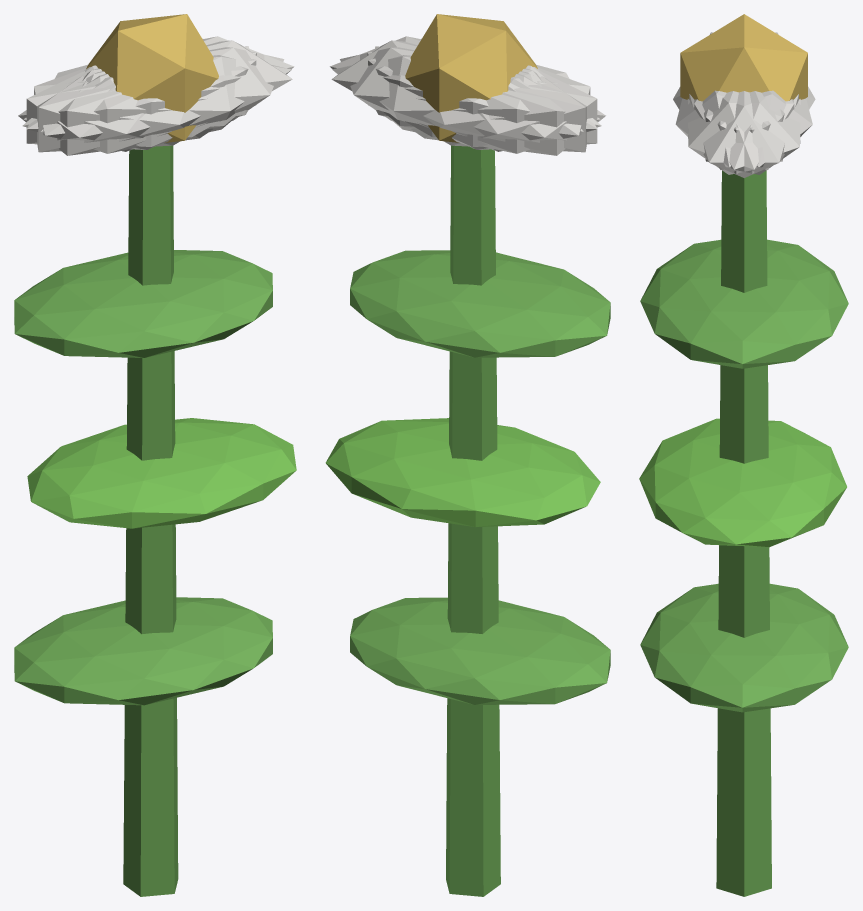
The model's file is bauhinia-purpurea.glb.
3 renders of one model, left to right at view 1: azimuth 30°, elevation 25°; view 2: azimuth 150°, elevation 25°; view 3: azimuth 270°, elevation 25°, orthographic.
Parts seen in each view (by area): view 1: stem, leaf1, leaf2, leaf0, center, petal1, petal6, petal2, petal5, petal7, petal0, petal4 (+2 smaller); view 2: stem, leaf1, leaf2, leaf0, center, petal8, petal3, petal7, petal4, petal2, petal0, petal5 (+2 smaller); view 3: stem, leaf1, leaf2, leaf0, center, petal0, petal4, petal5, petal8, petal1.
Part boxes in pixels (x1,y1,x2,y2): stem: (123,145,178,896); leaf1: (27,418,296,528); leaf2: (14,250,272,357); leaf0: (14,597,272,705); center: (86,14,218,142); petal1: (22,55,291,153); petal6: (18,67,212,155); petal2: (37,46,249,152); petal5: (40,47,284,146); petal7: (26,52,256,149); petal0: (86,40,292,137); petal4: (23,36,294,129); stem: (446,145,500,896); leaf1: (325,418,600,527); leaf2: (350,250,610,357); leaf0: (350,597,610,704); center: (405,14,537,142); petal8: (332,55,601,153); petal3: (411,67,605,155); petal7: (375,46,586,152); petal4: (340,47,583,146); petal2: (367,52,597,149); petal0: (331,40,538,137); petal5: (330,36,600,129); stem: (716,170,771,896); leaf1: (639,418,846,547); leaf2: (640,239,848,368); leaf0: (640,583,848,712); center: (680,14,807,101); petal0: (689,91,798,177); petal4: (694,91,800,174); petal5: (687,91,794,174); petal8: (704,90,812,167); petal1: (675,90,784,167).
Bounding box in the file's own units: 0.1498 × 0.4515 × 0.1005.
